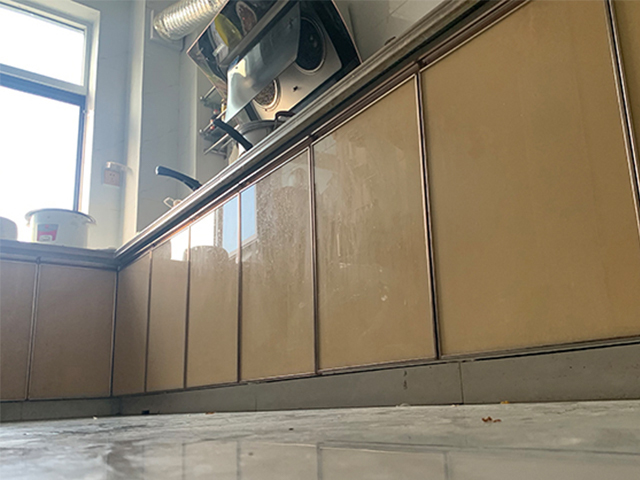cabinet: (416, 1, 640, 402), (115, 140, 319, 406), (313, 52, 426, 423), (1, 240, 116, 420)
